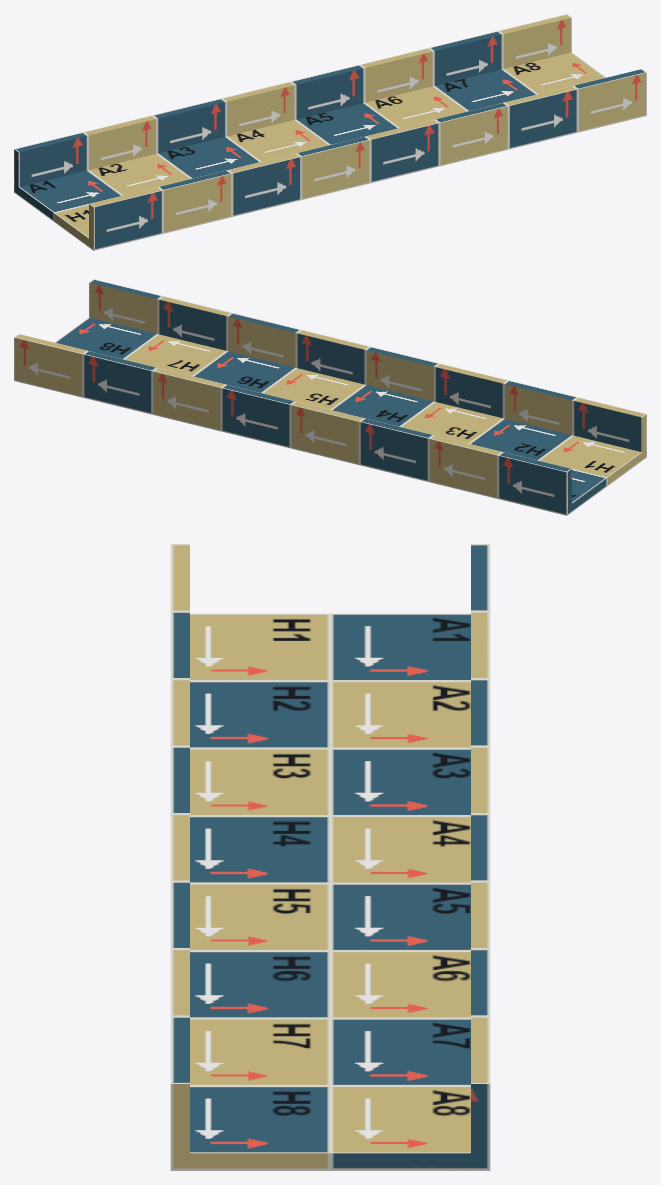
Rendered from DETAIL_CableTray.fbx.
3 renders of one model, top to bottom at view 1: azimuth 30°, elevation 25°; view 2: azimuth 150°, elevation 25°; view 3: azimuth 270°, elevation 25°, orthographic. The views are drawn at different scales.
Parts seen in each view (by area): view 1: DETAIL_CableTray; view 2: DETAIL_CableTray; view 3: DETAIL_CableTray.
Boxes of the visible parts, x1,y1,x2,y2 form: DETAIL_CableTray: (14, 14, 646, 250); DETAIL_CableTray: (14, 279, 646, 515); DETAIL_CableTray: (170, 544, 490, 1170).
Size of the model in its own units: 200 by 15 by 50.
Materials: 1 (1 with a texture image).
